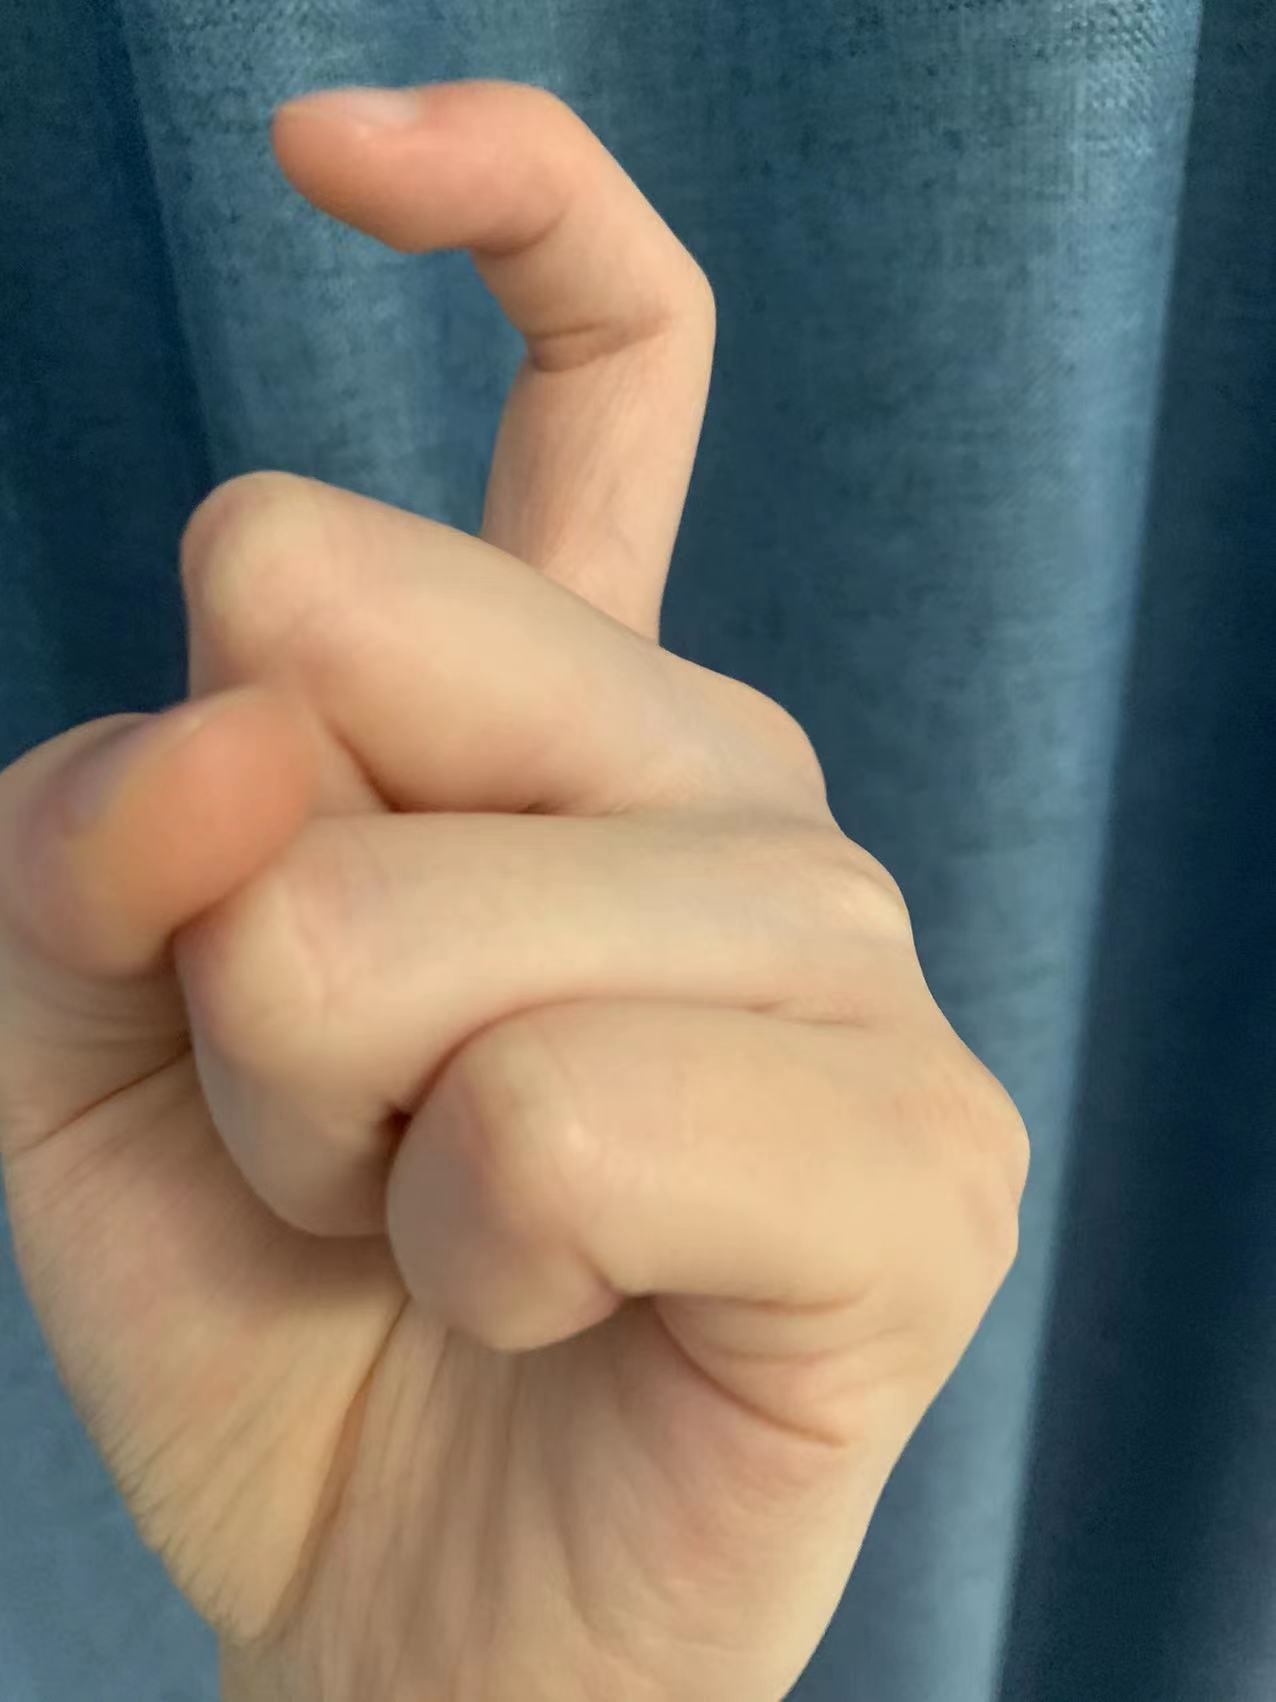anticlockwise: (5, 82, 1037, 1624)
